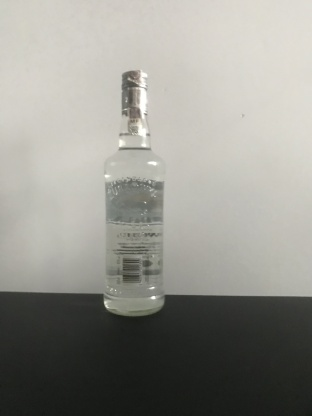nakretka: (119, 67, 149, 117)
